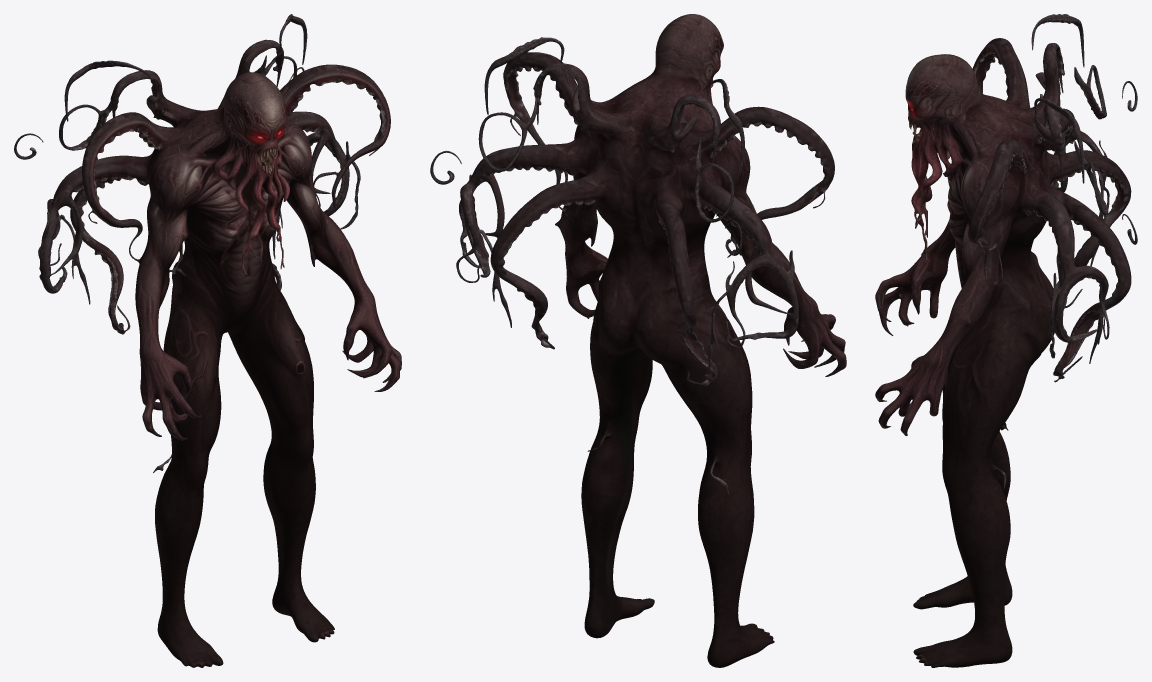
File: bloodsucker.glb
3 views of the same model, side by side, from view 1: azimuth 30°, elevation 25°; view 2: azimuth 150°, elevation 25°; view 3: azimuth 270°, elevation 25° (orthographic). The views are drawn at different scales.
Size of the model in its own units: 1.11 by 1.9 by 0.7817.
1 material, 1 textured.
